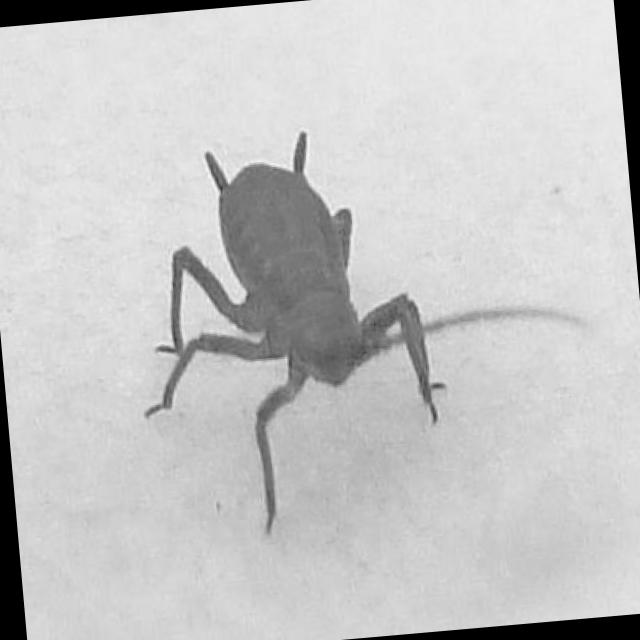Aphids: (150, 127, 472, 496)
